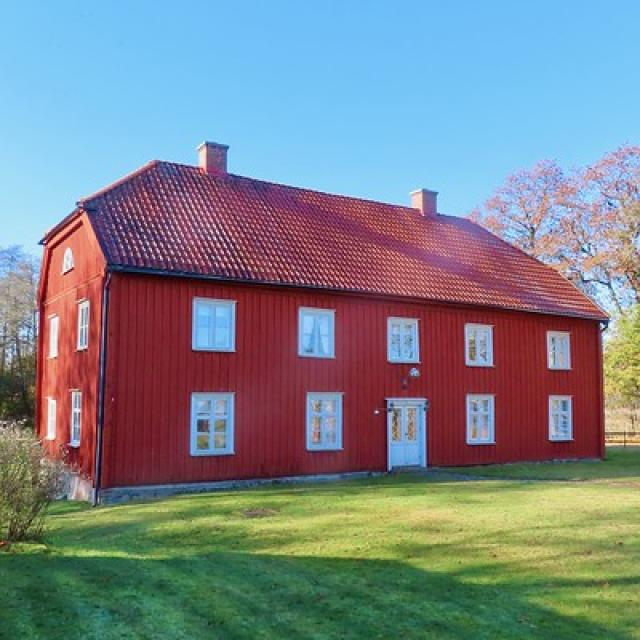Normal_building: (31, 138, 614, 512)
